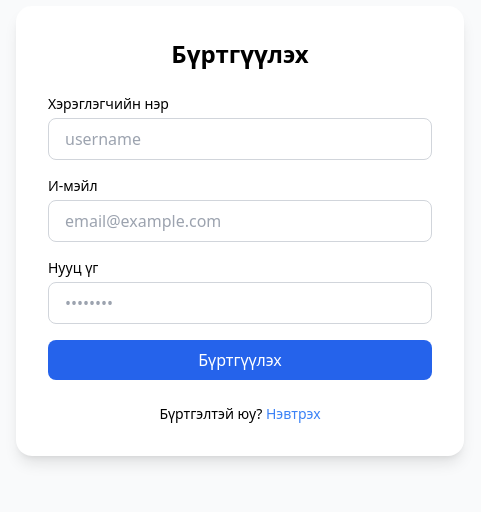
Test: RegisterPage › 10. should show validation errors on empty submit
Click the button "Бүртгүүлэх" at (240, 360), box [48,340,432,380]
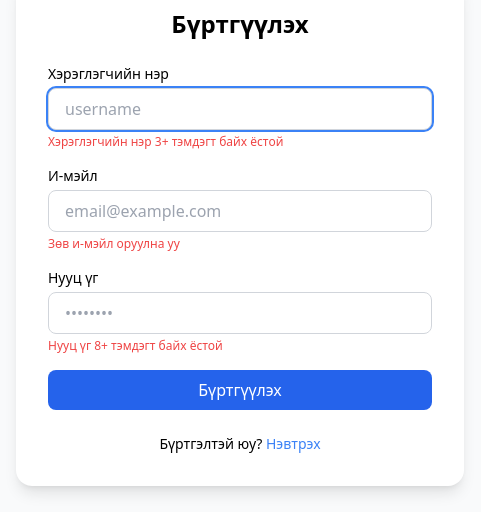
Result: the text "Хэрэглэгчийн нэр 3+ тэмдэгт байх ёстой" is shown at [48,133,283,150]
Result: the text "Зөв и-мэйл оруулна уу" is shown at [48,235,180,252]
Result: the text "Нууц үг 8+ тэмдэгт байх ёстой" is shown at [48,337,223,354]
